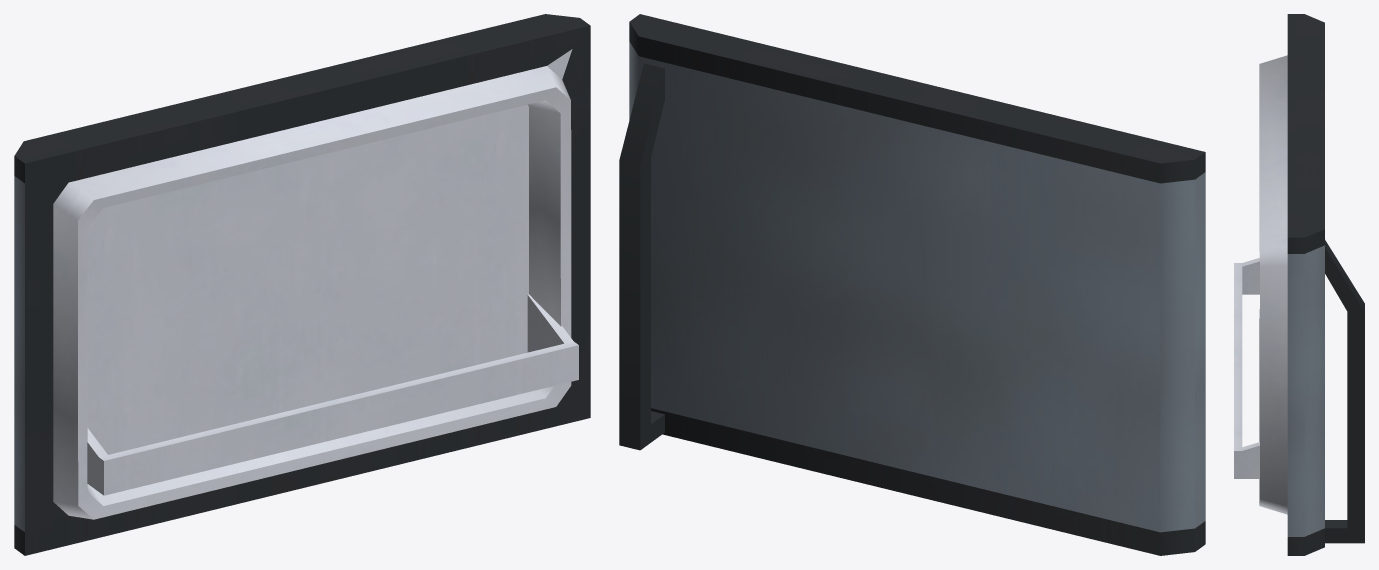
The model's file is Refrigerator_door.glb.
3 renders of one model, left to right at view 1: azimuth 30°, elevation 25°; view 2: azimuth 150°, elevation 25°; view 3: azimuth 270°, elevation 25°, orthographic. The views are drawn at different scales.
Visible parts, largest first — view 1: Refrigerator_door; view 2: Refrigerator_door; view 3: Refrigerator_door.
Boxes of the visible parts, x1=… form: Refrigerator_door: x1=14, y1=14, x2=590, y2=555; Refrigerator_door: x1=619, y1=14, x2=1205, y2=555; Refrigerator_door: x1=1234, y1=14, x2=1364, y2=555.
Size of the model in its own units: 0.9313 by 0.6173 by 0.2302.
3 materials, 3 textured.
